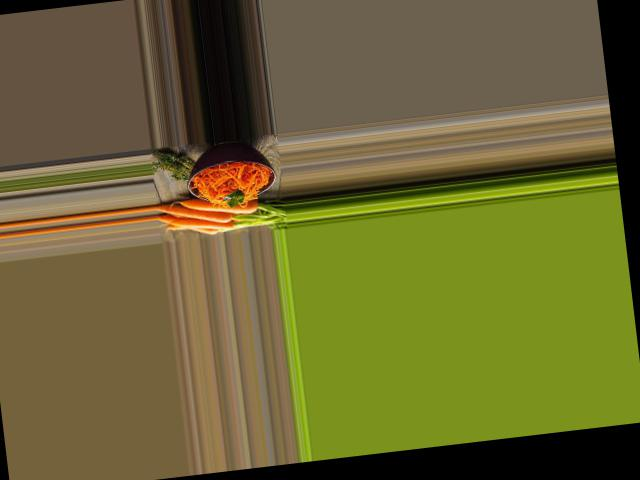carrot: (175, 190, 263, 222)
